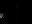person: (1, 15, 5, 20)
